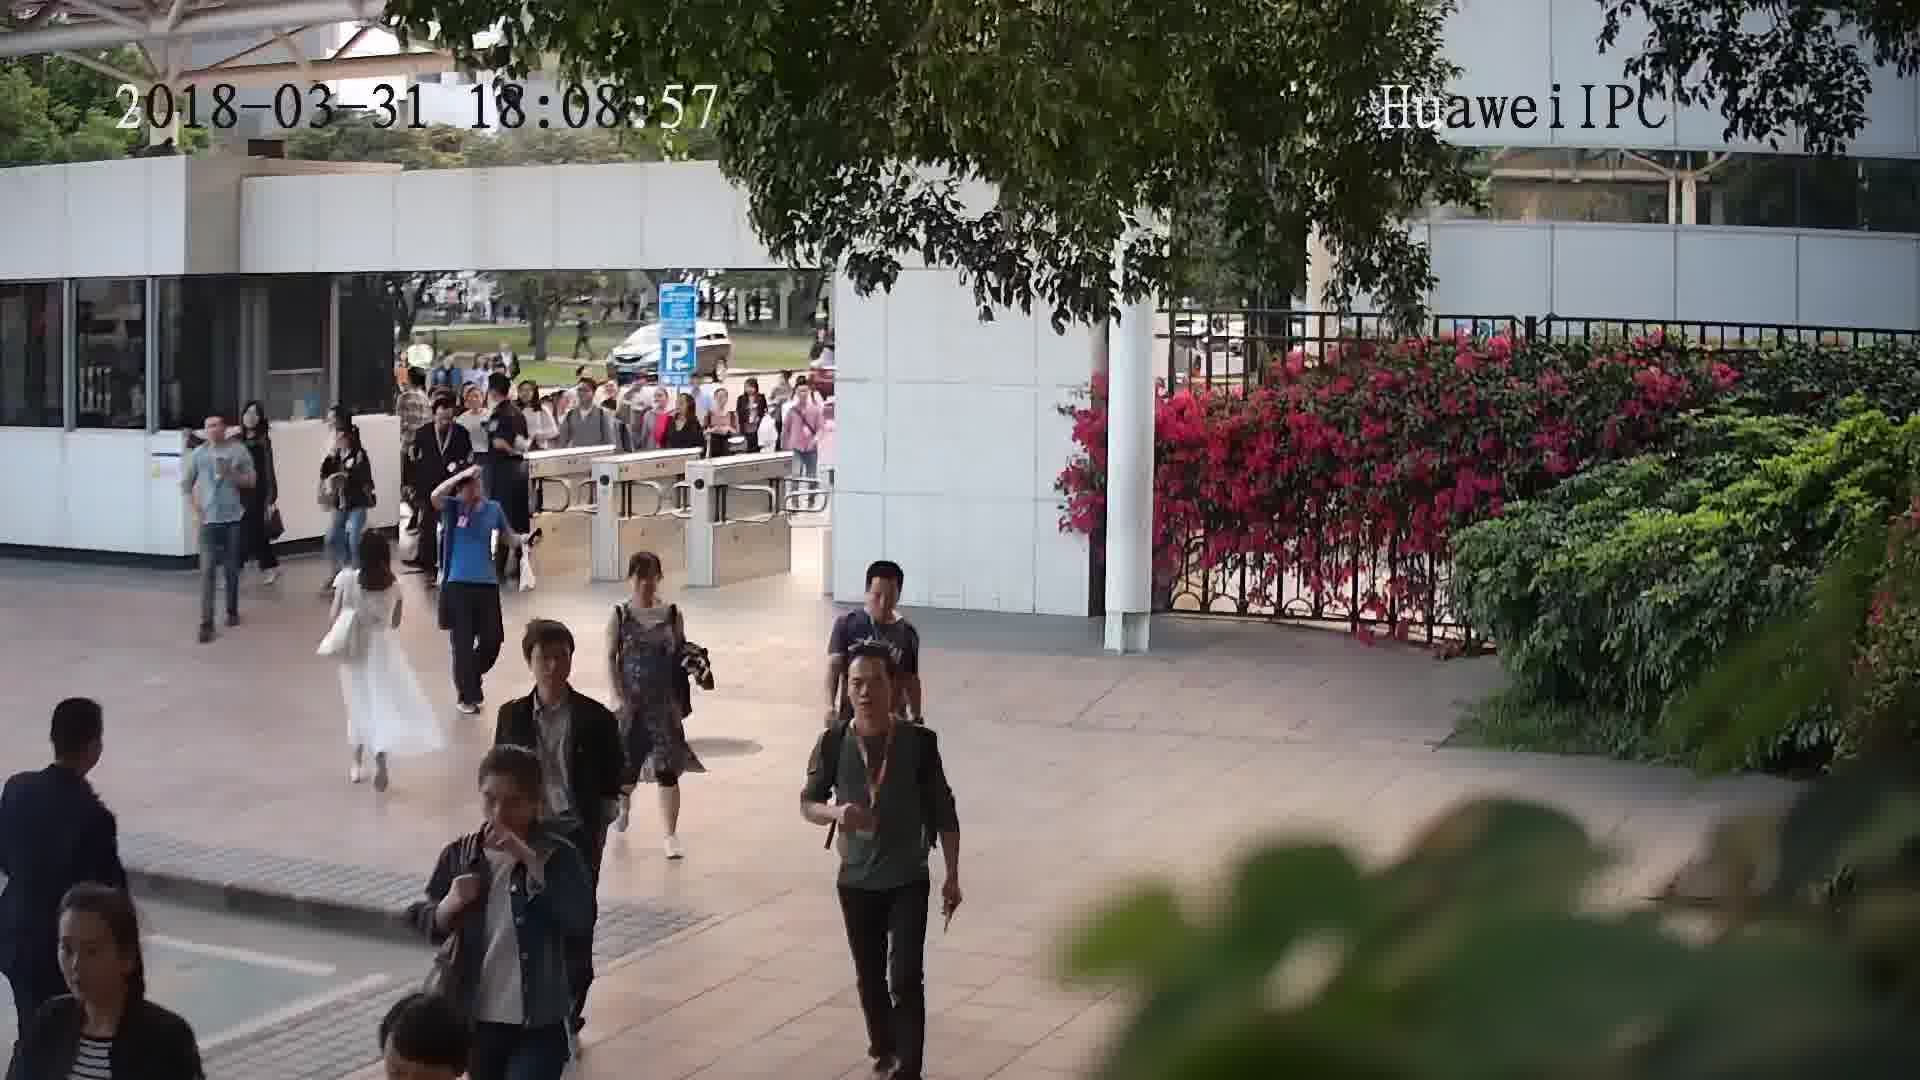face: (44, 909, 134, 999), (838, 657, 902, 721), (527, 638, 575, 686)
person: (15, 876, 200, 1066), (441, 752, 590, 877), (4, 694, 122, 831), (323, 990, 494, 1079), (497, 617, 613, 739), (820, 644, 941, 757), (830, 557, 916, 643), (611, 547, 686, 631), (338, 528, 419, 599), (442, 463, 505, 524), (188, 409, 250, 469), (414, 393, 470, 448), (480, 369, 526, 429), (322, 414, 371, 468), (231, 397, 277, 449), (512, 376, 552, 428), (567, 379, 613, 425), (393, 366, 436, 413), (664, 389, 705, 433), (457, 383, 497, 427), (781, 381, 826, 420), (641, 383, 673, 427), (703, 384, 739, 421), (431, 348, 465, 386), (598, 375, 632, 410), (734, 374, 772, 408)
